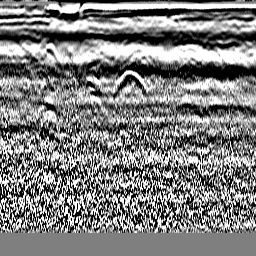cavity: (112, 66, 144, 93)
